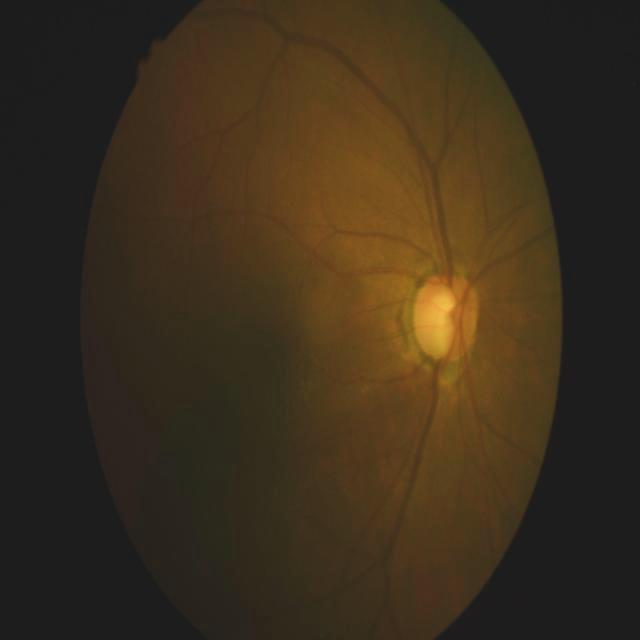cup: (429, 286, 462, 355)
disk: (412, 270, 480, 364)
